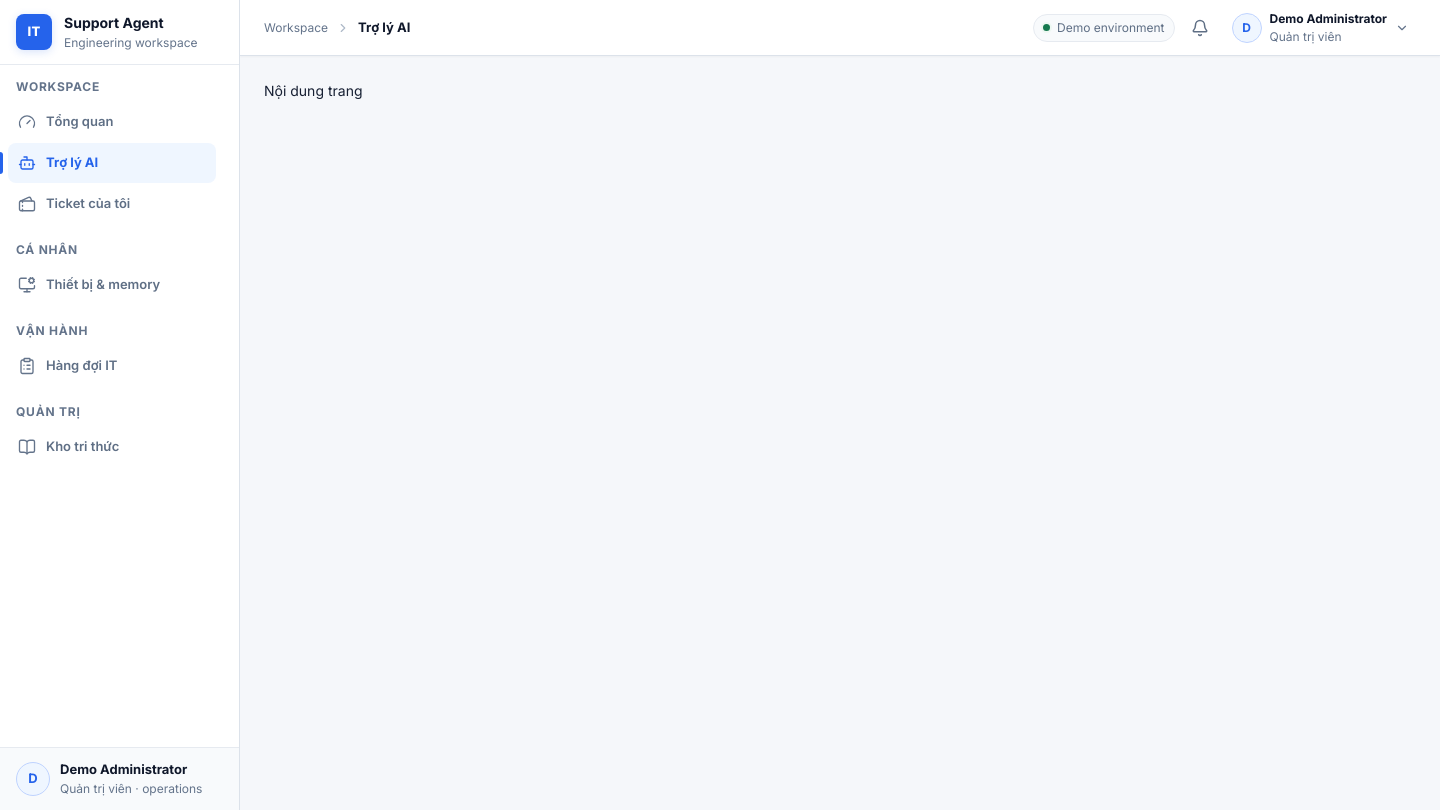
Test: AppShell › opens the notification popover and closes it with Escape
Click the button named "Thông báo": coordinates (1200, 28) [1182,10,1216,44]
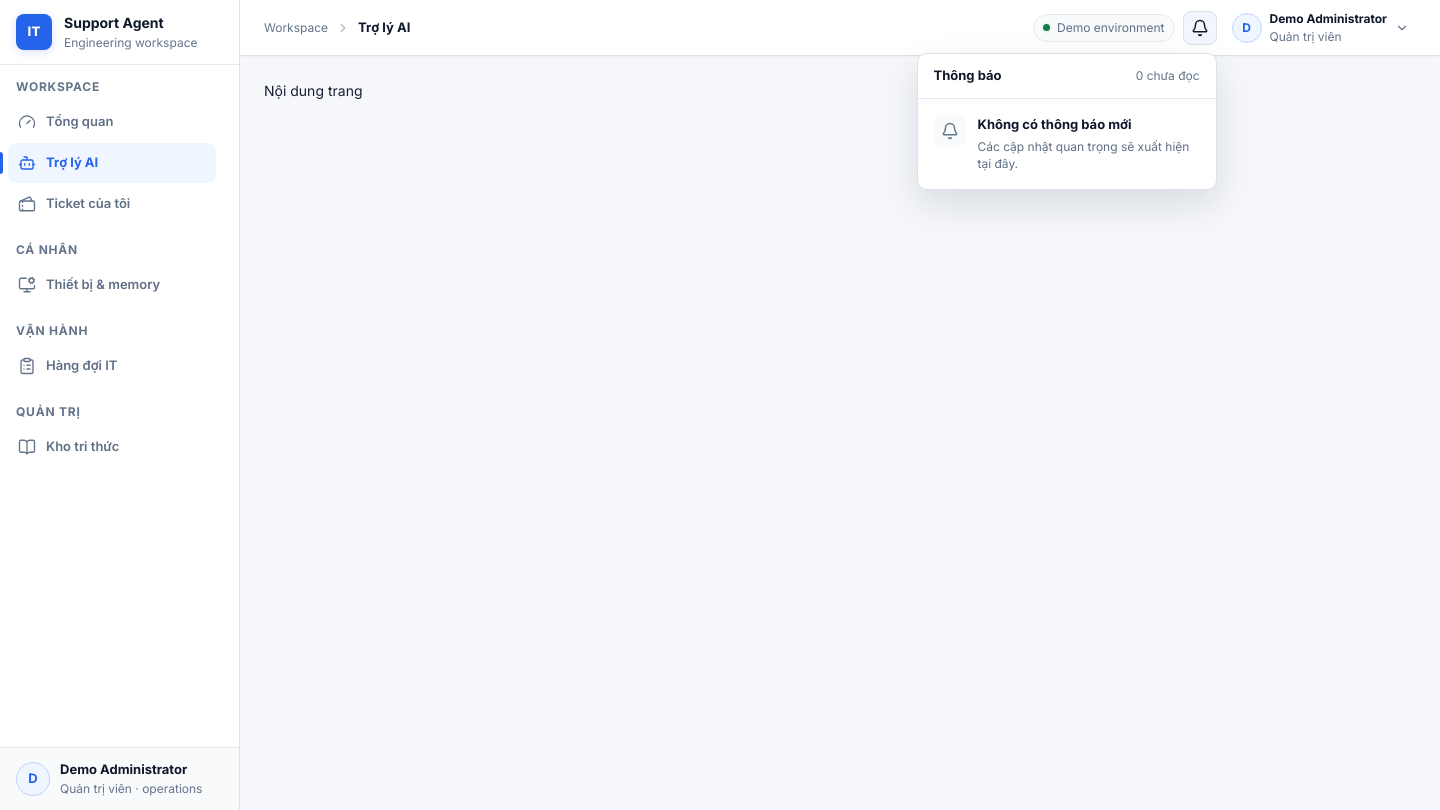
Expected: the text "Không có thông báo mới" is shown, [978,116,1132,132]
Press Escape
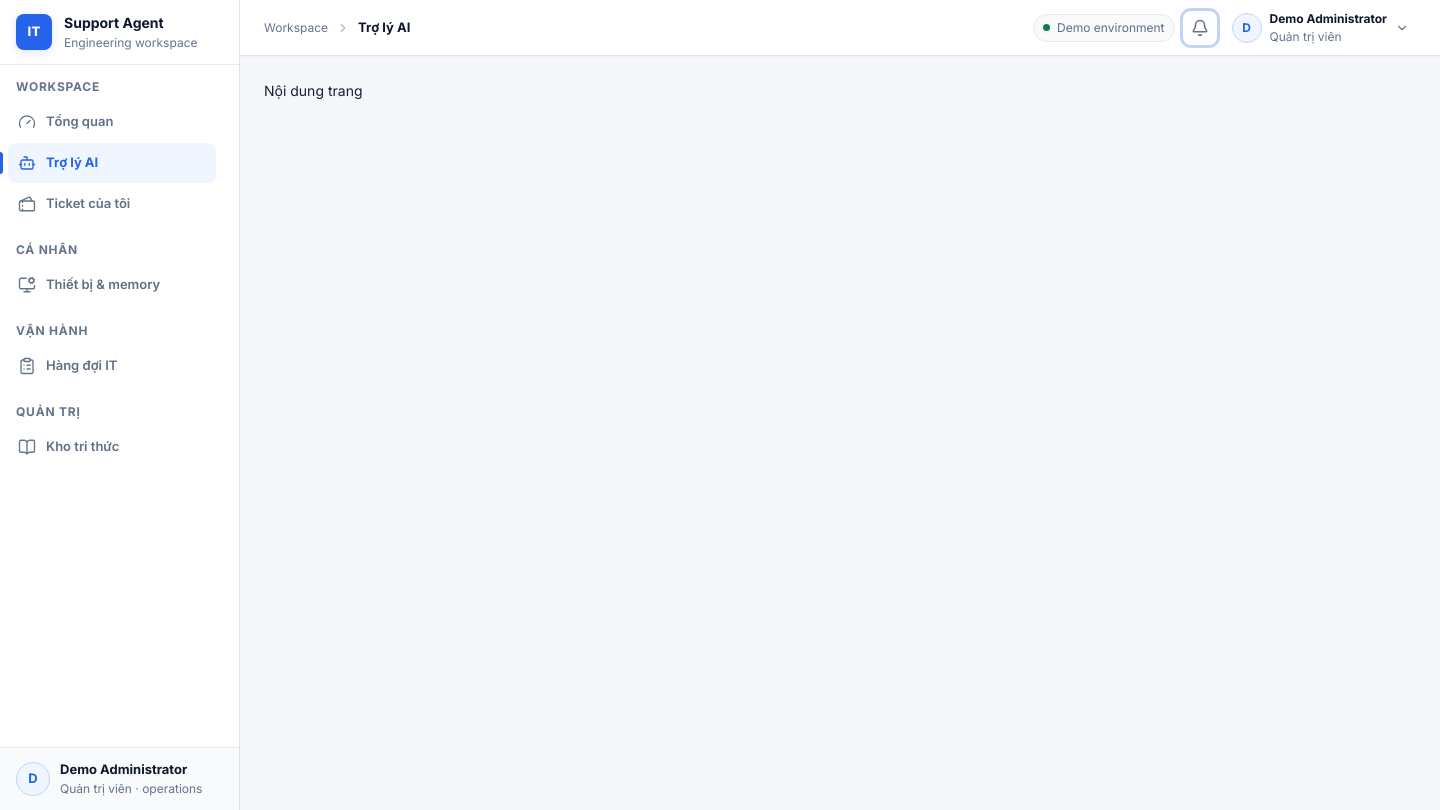
Expected: the text "Không có thông báo mới" is gone
